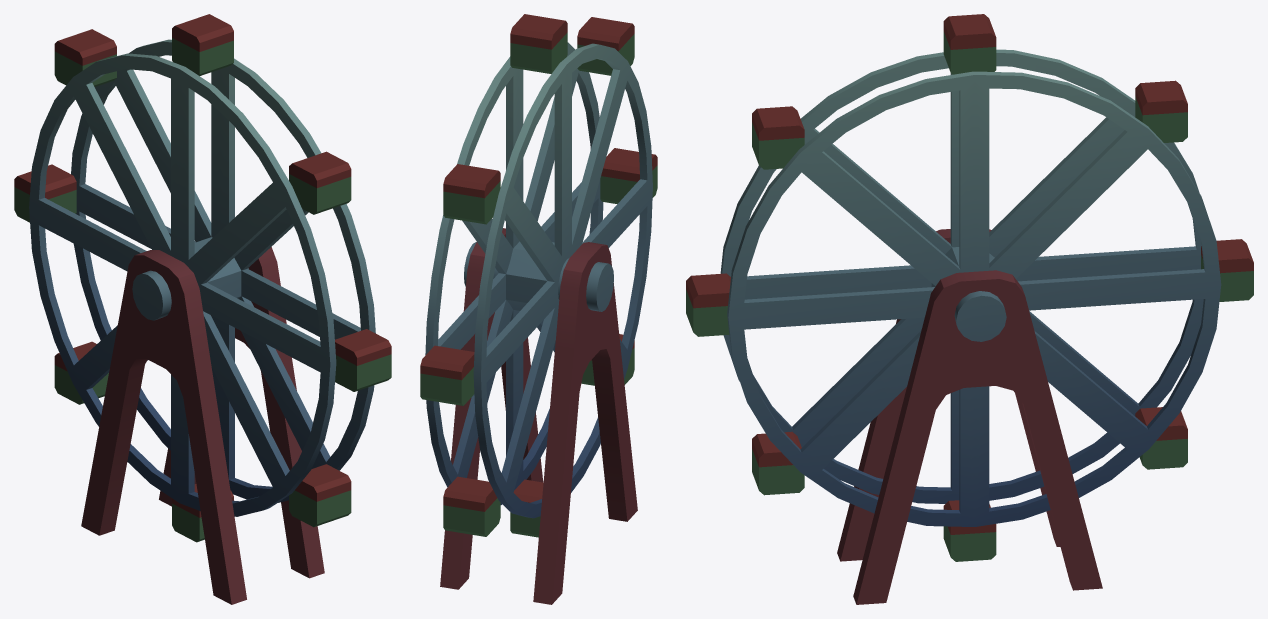
Rendered from Wheel.fbx.
3 renders of one model, left to right at view 1: azimuth 30°, elevation 25°; view 2: azimuth 150°, elevation 25°; view 3: azimuth 270°, elevation 25°, orthographic. The views are drawn at different scales.
Visible parts, largest first — view 1: Cylinder.002; view 2: Cylinder.002; view 3: Cylinder.002.
Boxes of the visible parts, x1=… form: Cylinder.002: x1=14, y1=14, x2=391, y2=604; Cylinder.002: x1=420, y1=14, x2=657, y2=604; Cylinder.002: x1=686, y1=14, x2=1253, y2=604.
Bounding box in the file's own units: 202 × 749 × 706.
